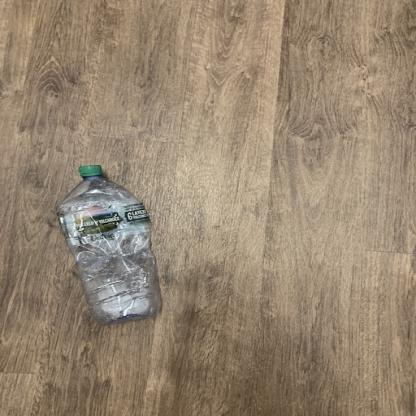trash: (57, 164, 167, 326)
